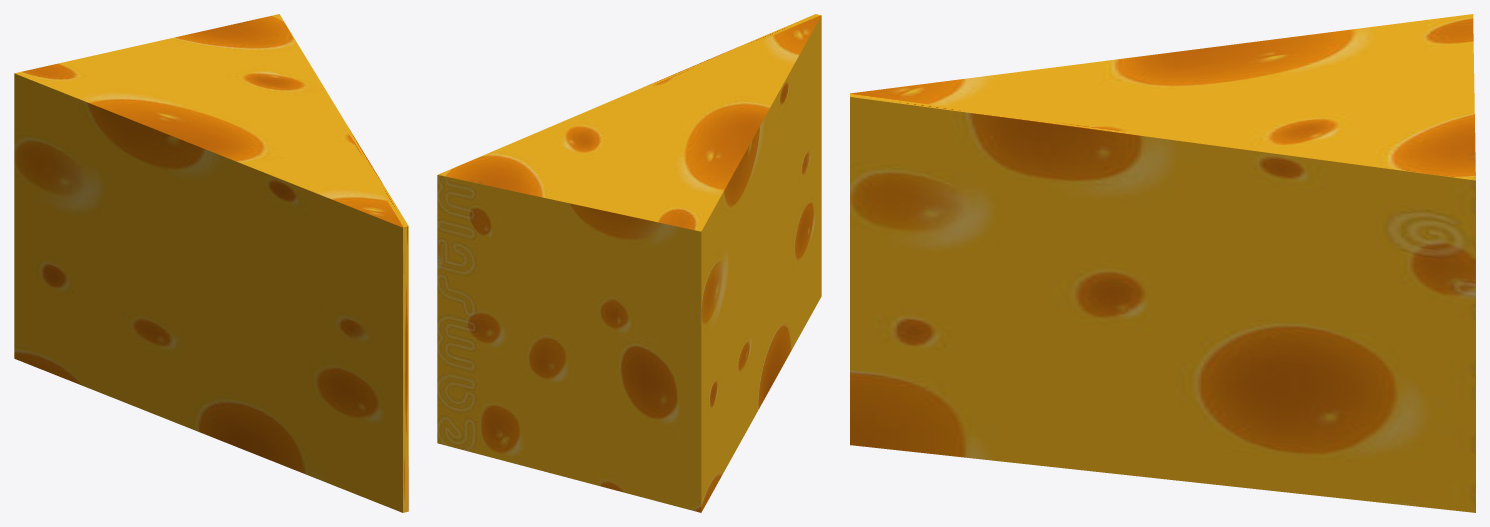
The model's file is cheese.gltf.
The picture shows the model from 3 angles, left to right: view 1: azimuth 30°, elevation 25°; view 2: azimuth 150°, elevation 25°; view 3: azimuth 270°, elevation 25°; orthographic projection. The views are drawn at different scales.
Visible parts, largest first — view 1: Cube; view 2: Cube; view 3: Cube.
Boxes of the visible parts, x1,y1,x2,y2 form: Cube: (14,14,408,512); Cube: (437,14,821,512); Cube: (850,14,1475,512).
Size of the model in its own units: 1.43 by 1.47 by 2.39.
Materials: 1 (1 with a texture image).
